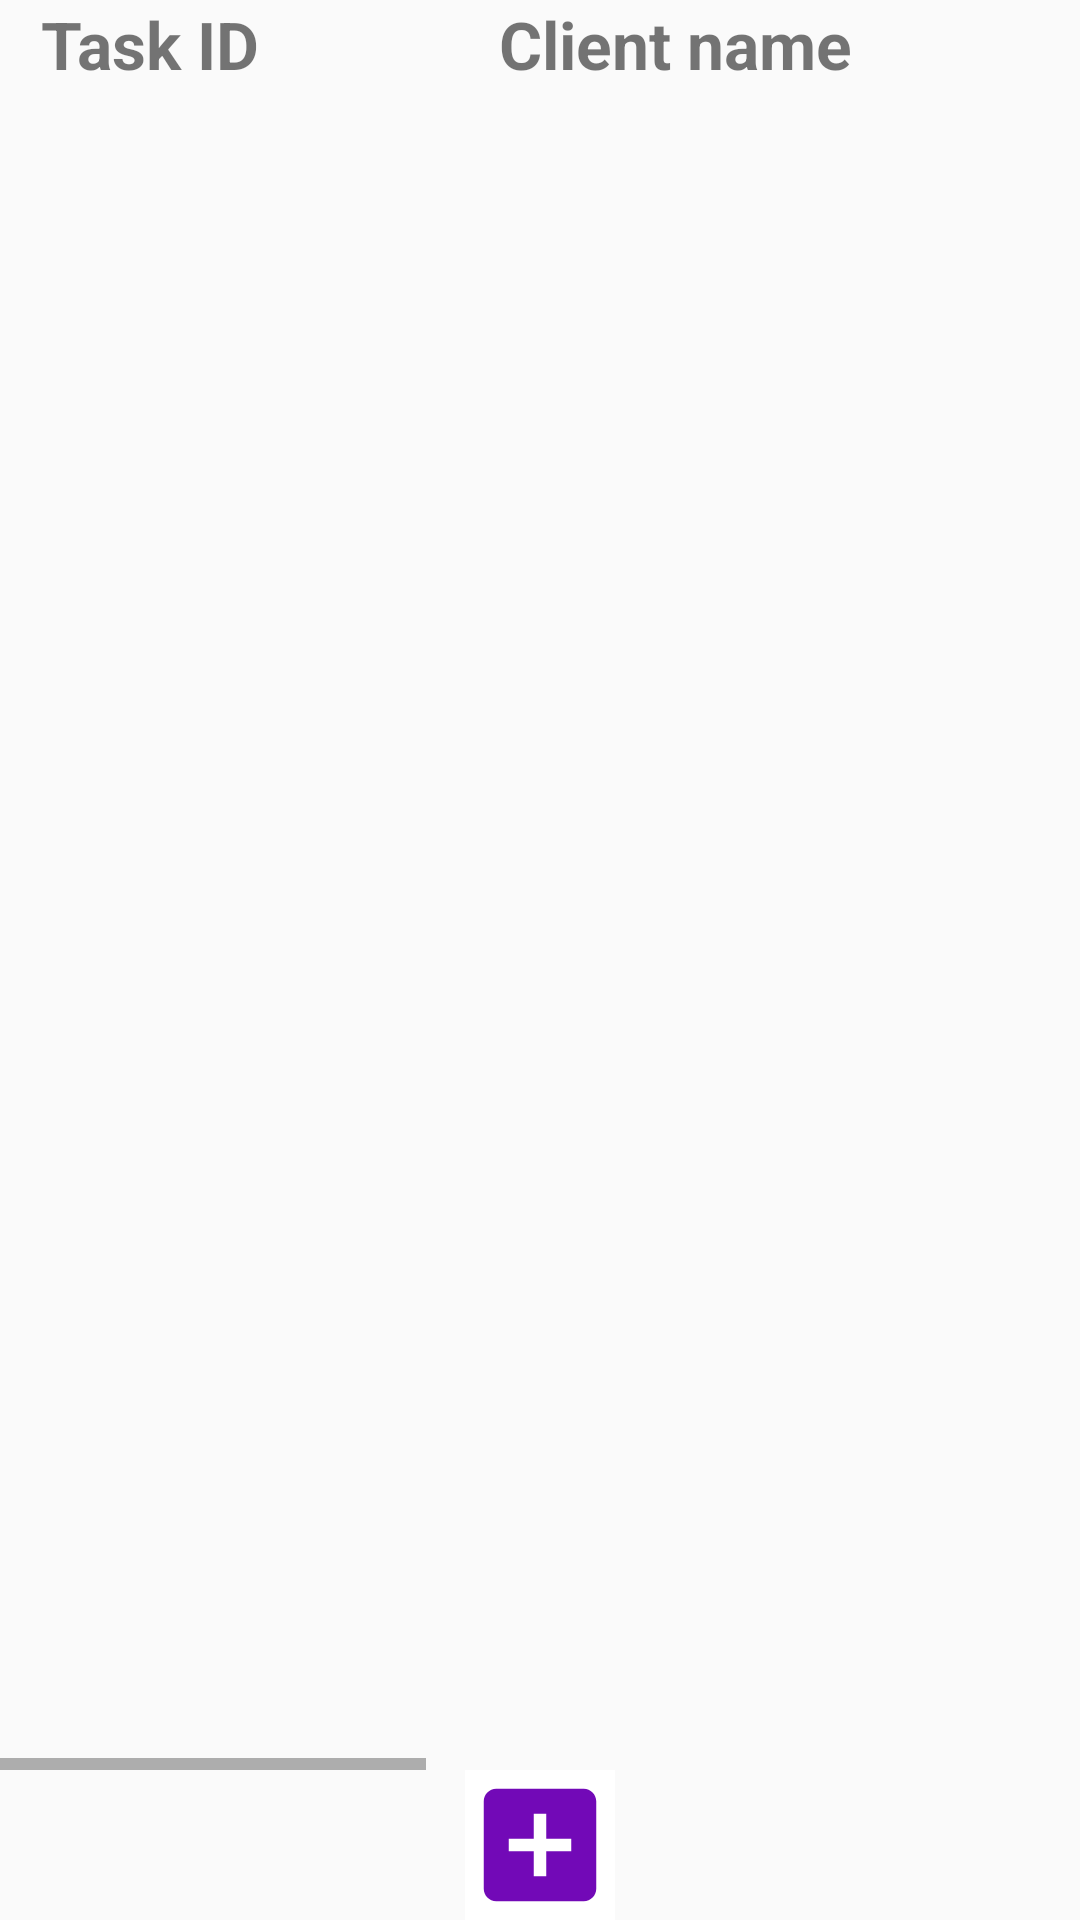

Screen size 1080w x 1920h. Icon name, then its box in pixels as (x1=x1, y1=y1, x2=x2, y2=y2):
add: (x1=483, y1=1788, x2=597, y2=1902)
